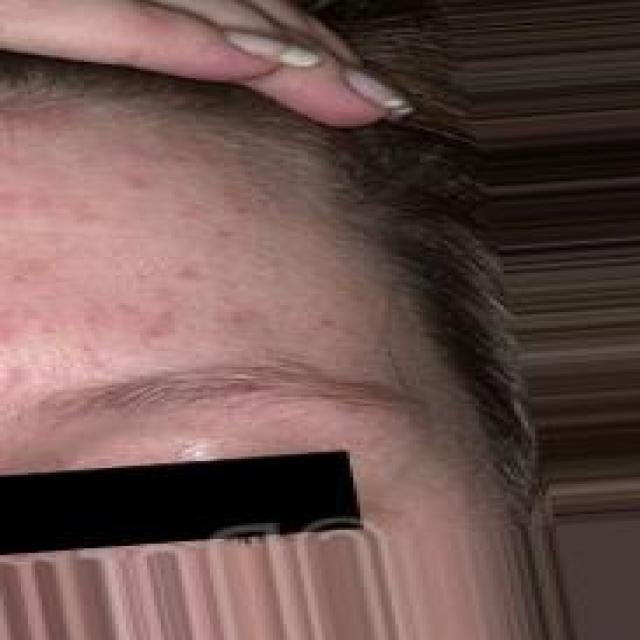Rosacea: (0, 105, 270, 353)
